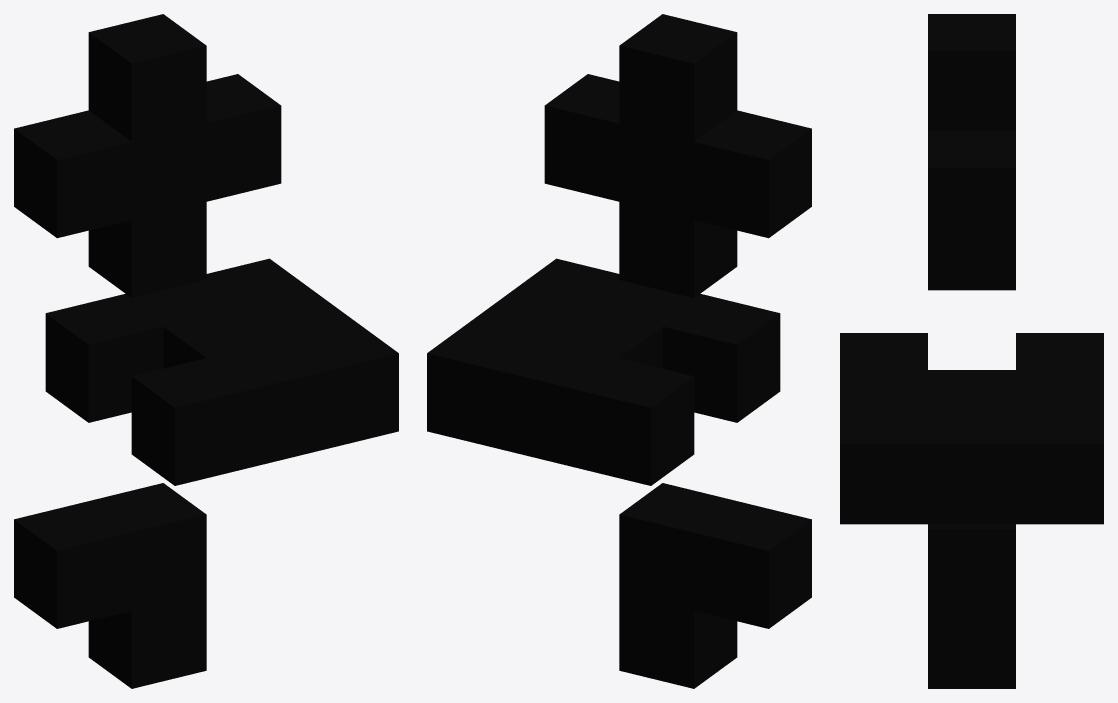
The model's file is Thompson.dae.
The picture shows the model from 3 angles, left to right: view 1: azimuth 30°, elevation 25°; view 2: azimuth 150°, elevation 25°; view 3: azimuth 270°, elevation 25°; orthographic projection. The views are drawn at different scales.
Visible parts, largest first — view 1: Thompson; view 2: Thompson; view 3: Thompson.
Part boxes in pixels (x1,y1,x2,y2): Thompson: [14, 14, 398, 688]; Thompson: [427, 14, 811, 688]; Thompson: [840, 14, 1103, 688].
Bounding box in the file's own units: 0.4 × 0.8 × 0.3.
Materials: 1 (1 with a texture image).
